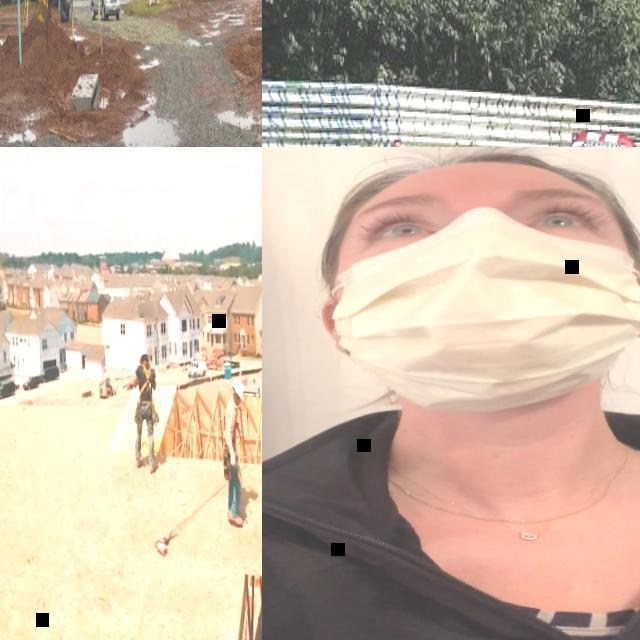helmet: (328, 147, 620, 212), (232, 378, 244, 399), (138, 348, 148, 361), (389, 139, 404, 147)
